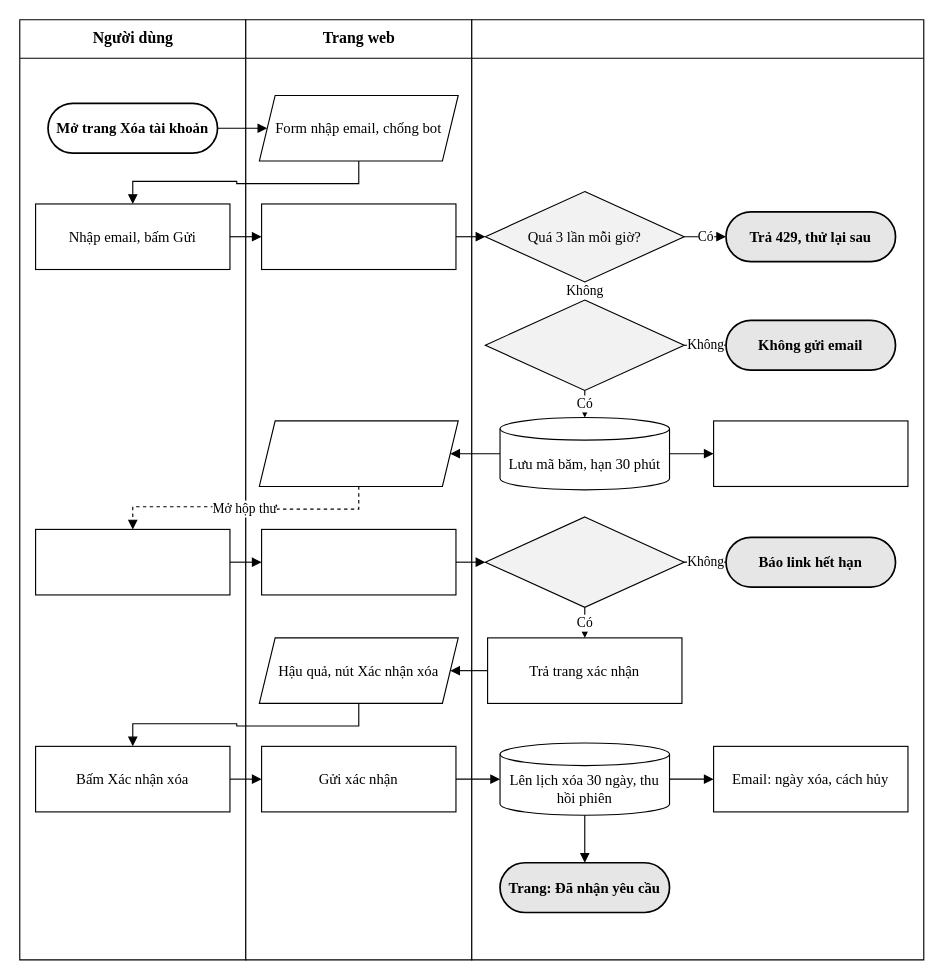
The diagram is 944 pixels wide and 980 high, and some of its shapes have lost their labels. Each missing label, with the box of its shape:
Email có tài khoản?: (484, 299, 684, 390)
Gửi email có link xác nhận: (712, 420, 908, 486)
Gửi mã trong link: (260, 528, 456, 595)
Gửi yêu cầu: (260, 203, 456, 270)
Luôn hiện: Hãy kiểm tra email: (258, 420, 458, 486)
Máy chủ: (471, 19, 924, 960)
Mã còn hạn, chưa dùng?: (484, 516, 684, 607)
Mở link trong email: (34, 528, 230, 595)
